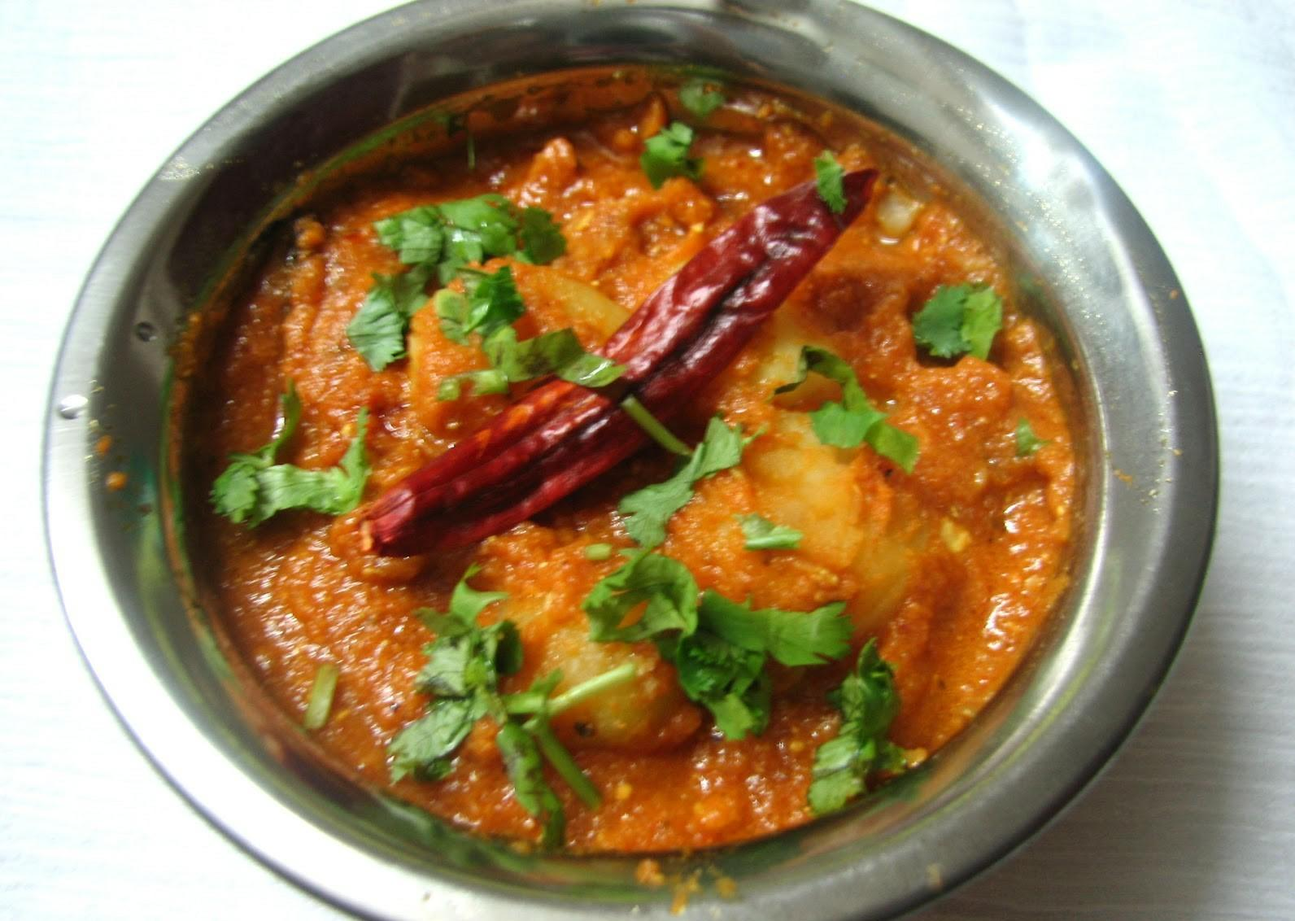DumAloo: (186, 88, 1079, 846)
